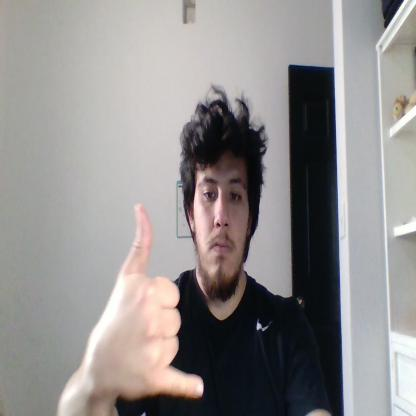Y: (105, 206, 204, 400)
